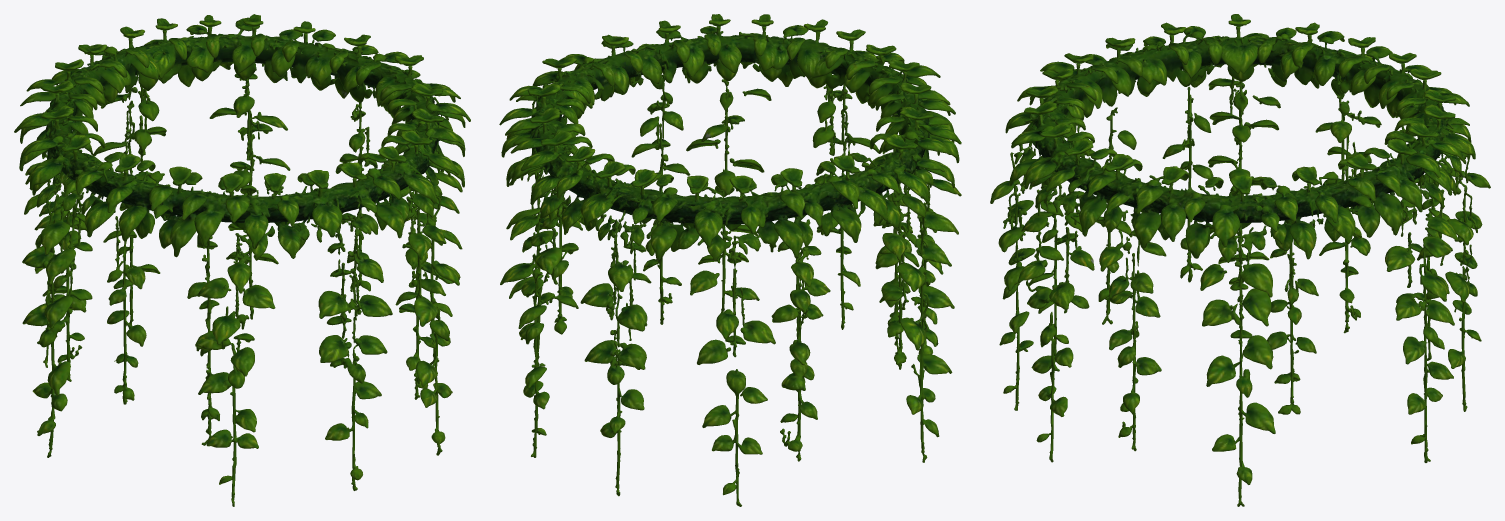
File: Hanging Ivy.glb
The picture shows the model from 3 angles, left to right: view 1: azimuth 30°, elevation 25°; view 2: azimuth 150°, elevation 25°; view 3: azimuth 270°, elevation 25°; orthographic projection.
Visible parts, largest first — view 1: tripo_node_fa61eadf-cf66-42bf-bd09-9c01b391ce3b; view 2: tripo_node_fa61eadf-cf66-42bf-bd09-9c01b391ce3b; view 3: tripo_node_fa61eadf-cf66-42bf-bd09-9c01b391ce3b.
Part boxes in pixels (x1,y1,x2,y2): tripo_node_fa61eadf-cf66-42bf-bd09-9c01b391ce3b: [14, 14, 470, 506]; tripo_node_fa61eadf-cf66-42bf-bd09-9c01b391ce3b: [499, 14, 961, 506]; tripo_node_fa61eadf-cf66-42bf-bd09-9c01b391ce3b: [990, 14, 1490, 506].
Bounding box in the file's own units: 0.9796 × 0.6944 × 0.9998.
Materials: 1 (1 with a texture image).
